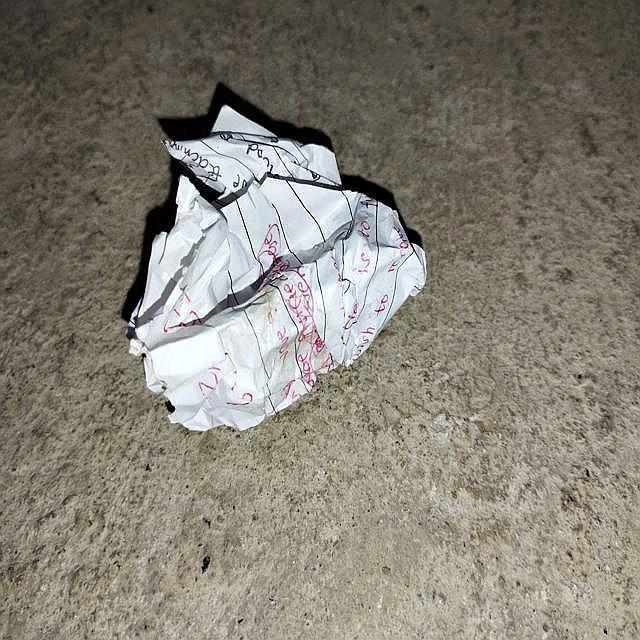Biodegradable: (130, 104, 430, 429)
